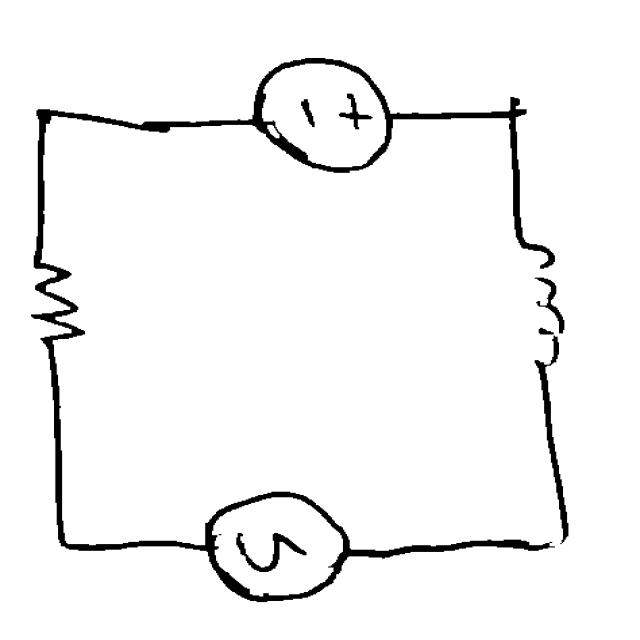ac: (189, 482, 364, 608), (488, 222, 580, 382)
dc: (239, 47, 407, 180)
resistor: (12, 241, 102, 358)
